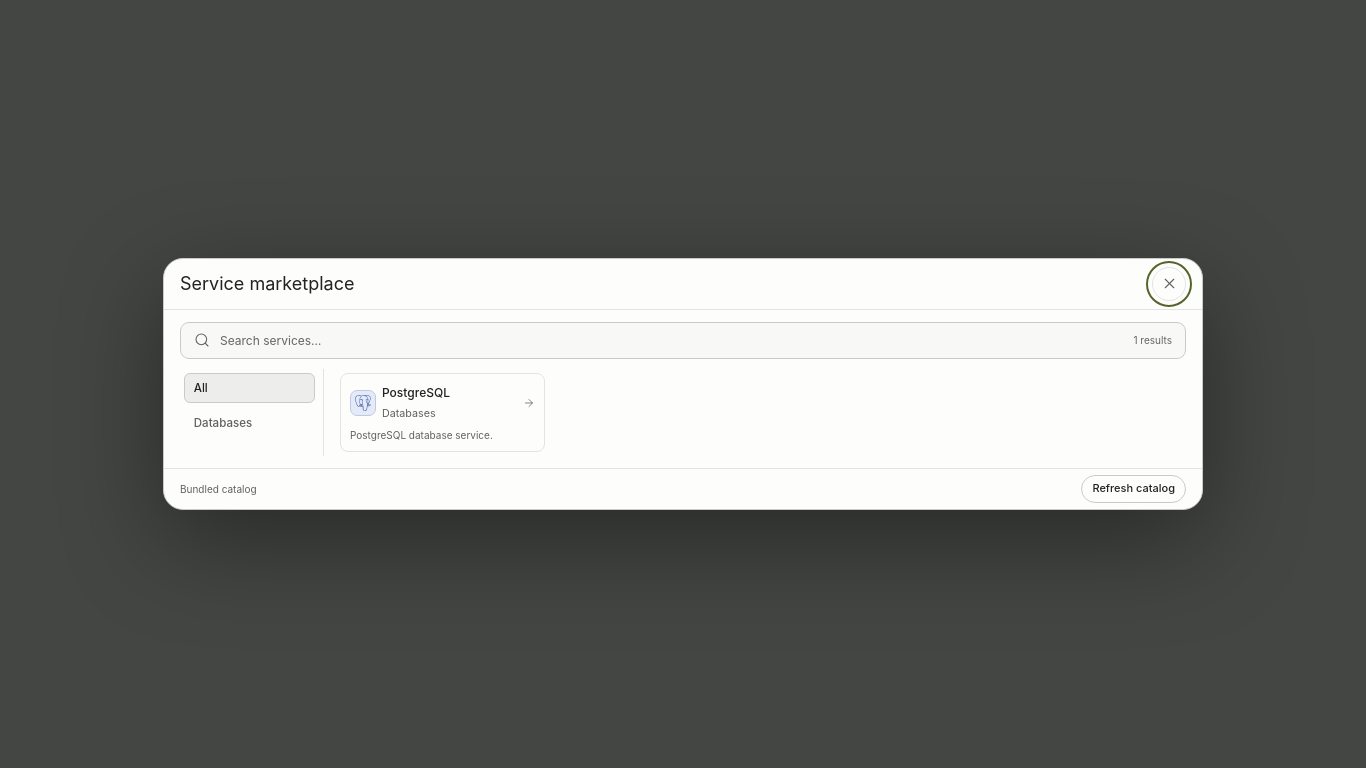
Scenario: service catalog › refreshes the catalog and shows the cached source and timestamp
Expected: the text "Bundled catalog" is shown, [180, 481, 257, 497]
Click the button "Refresh catalog": click(1134, 489) [1081, 475, 1186, 503]
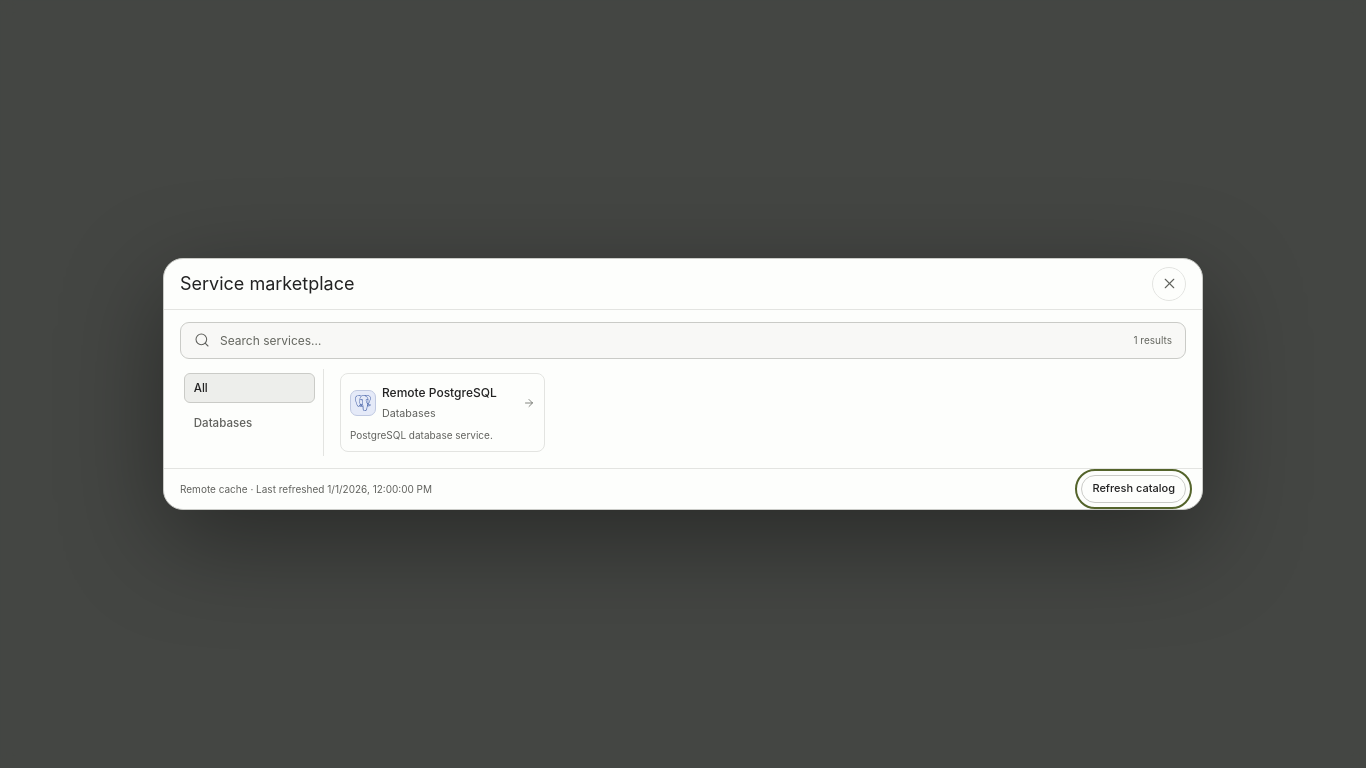
Expected: the text "Remote cache · Last refreshed 1/1/2026, 12:00:00 PM" is shown, [180, 481, 432, 497]
Expected: the button "Remote PostgreSQL Databases PostgreSQL database service." is shown, [340, 373, 544, 452]
